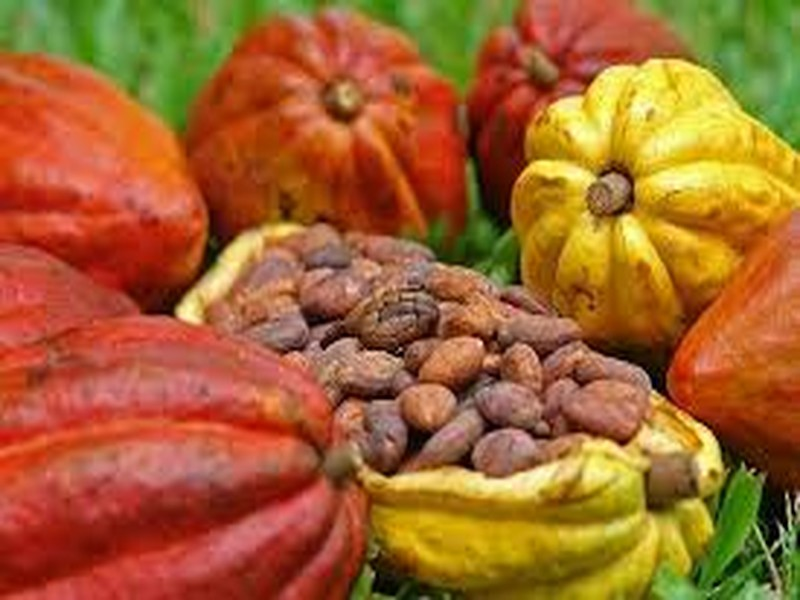Cacaopod: (516, 56, 799, 345)
